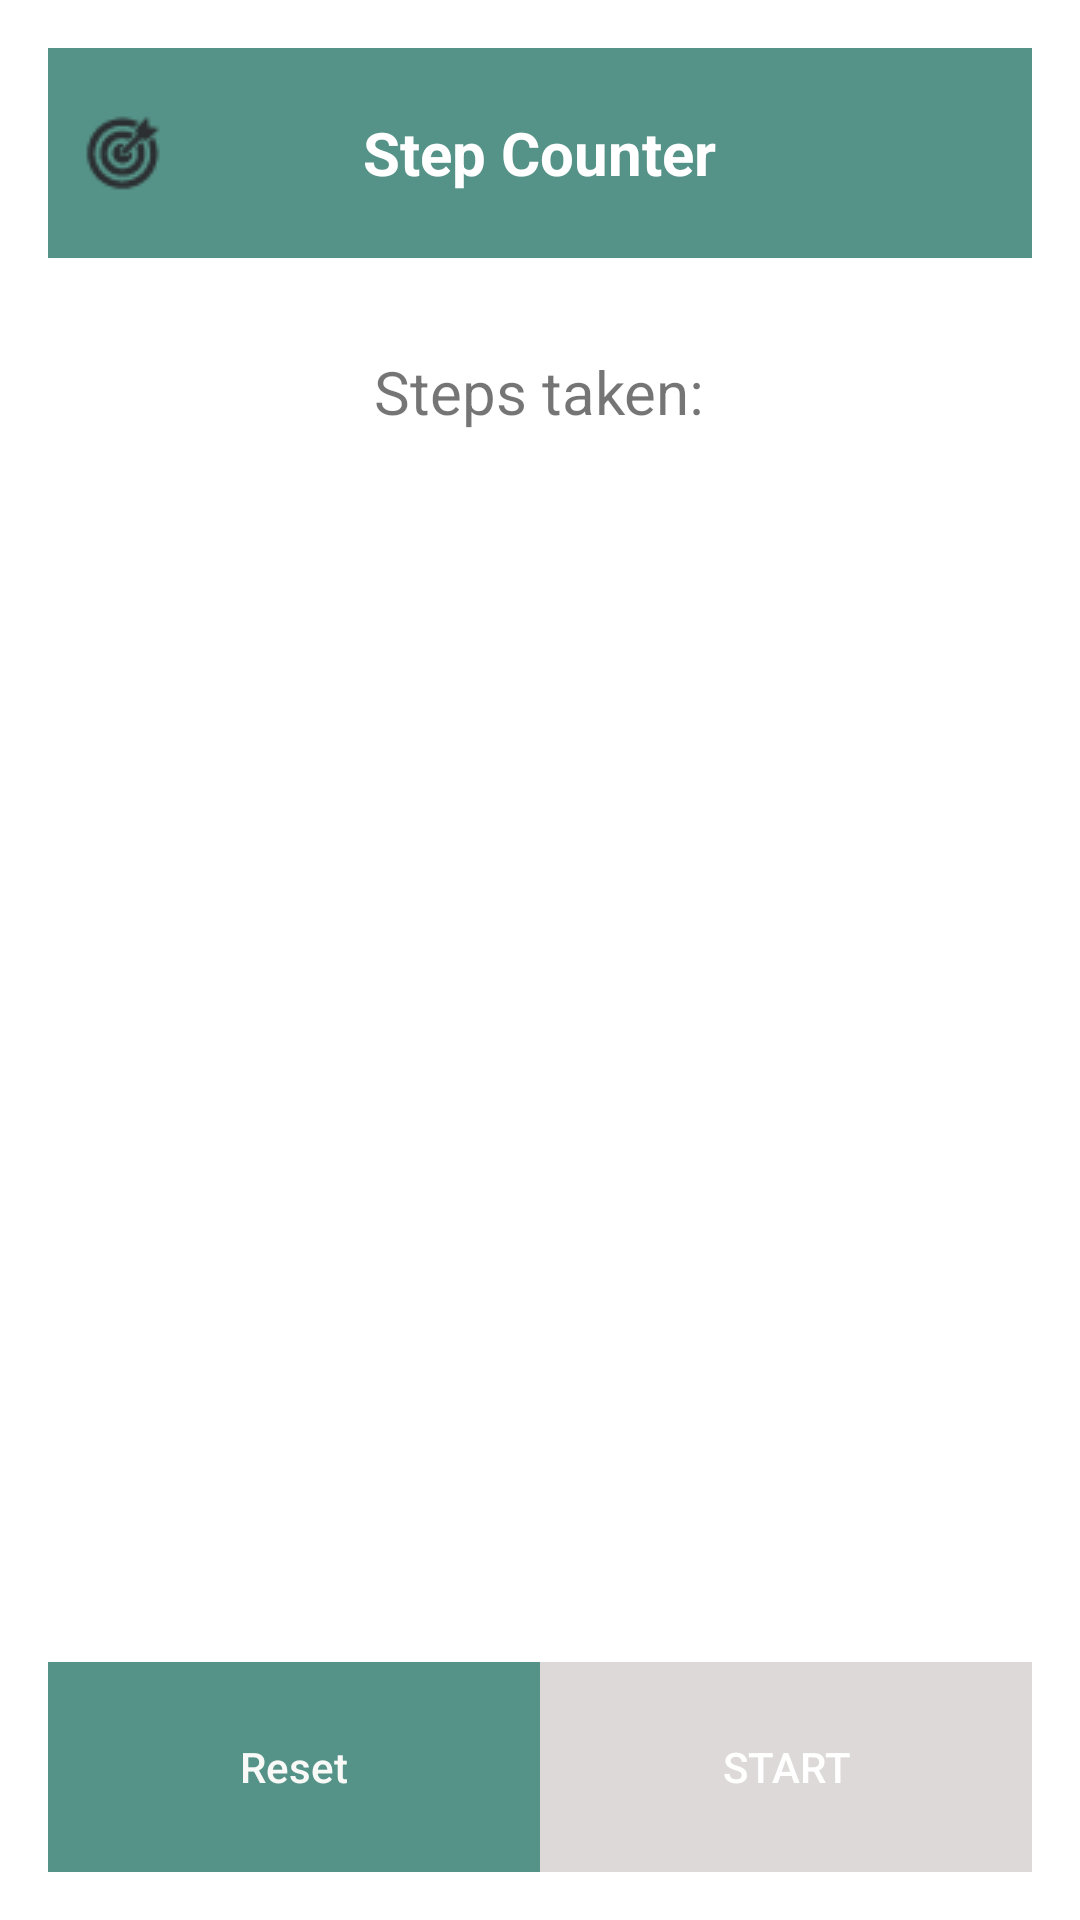

Where icons sit on this 1080×1920 app screen, as (x1, y1, x2, y2):
arrow: (86, 117, 159, 190)
